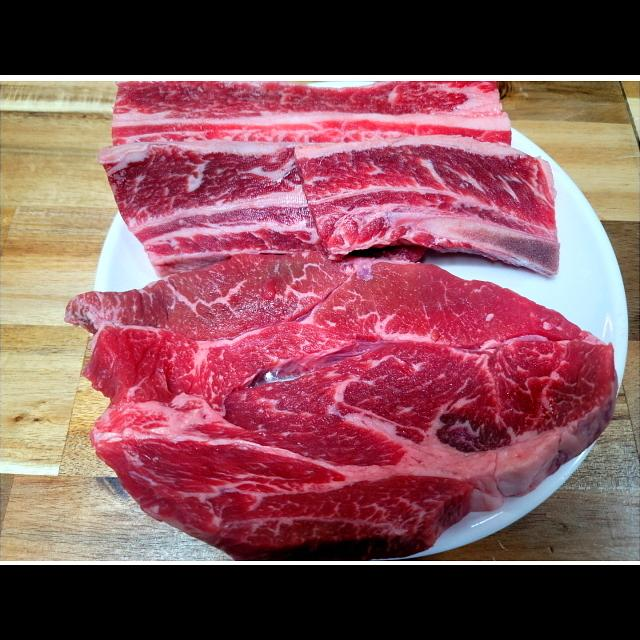beef: (125, 269, 542, 511), (134, 115, 537, 257)
